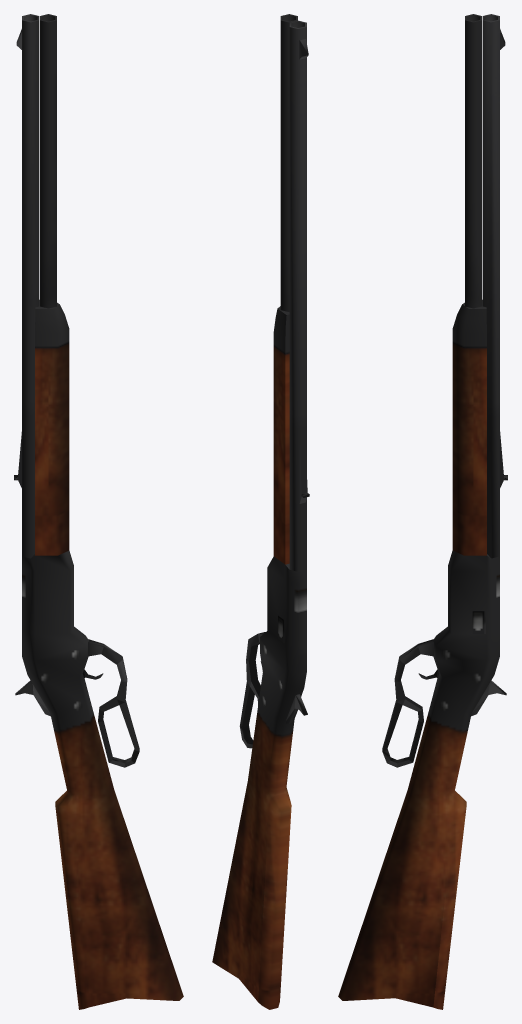
Rendered from MarlinM1894.fbx.
The picture shows the model from 3 angles, left to right: view 1: azimuth 90°, elevation 25°; view 2: azimuth 210°, elevation 25°; view 3: azimuth 270°, elevation 25°; orthographic projection.
Parts seen in each view (by area): view 1: node_6d7df386_3ec5_4995_92b3_86f1ee1ffa4a_mesh0; view 2: node_6d7df386_3ec5_4995_92b3_86f1ee1ffa4a_mesh0; view 3: node_6d7df386_3ec5_4995_92b3_86f1ee1ffa4a_mesh0.
Part boxes in pixels (x1,y1,x2,y2): node_6d7df386_3ec5_4995_92b3_86f1ee1ffa4a_mesh0: (14,14,183,1009); node_6d7df386_3ec5_4995_92b3_86f1ee1ffa4a_mesh0: (212,14,309,1009); node_6d7df386_3ec5_4995_92b3_86f1ee1ffa4a_mesh0: (338,14,507,1009).
Size of the model in its own units: 0.0148 by 0.6495 by 0.101.
